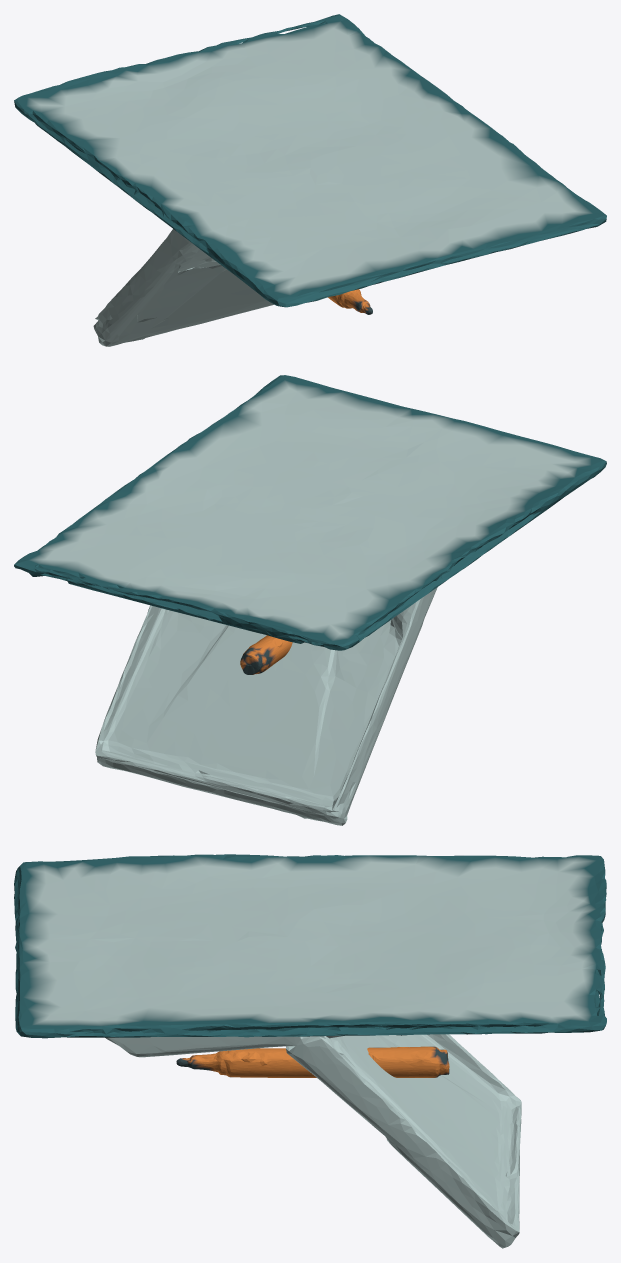
The picture shows the model from 3 angles, top to bottom: view 1: azimuth 30°, elevation 25°; view 2: azimuth 150°, elevation 25°; view 3: azimuth 270°, elevation 25°; orthographic projection. The views are drawn at different scales.
Visible parts, largest first — view 1: world; view 2: world; view 3: world.
Part boxes in pixels (<box>): world: <box>14,14,606,346</box>; world: <box>14,375,606,825</box>; world: <box>14,854,606,1248</box>.
Size of the model in its own units: 0.217 by 0.1436 by 0.3052.
